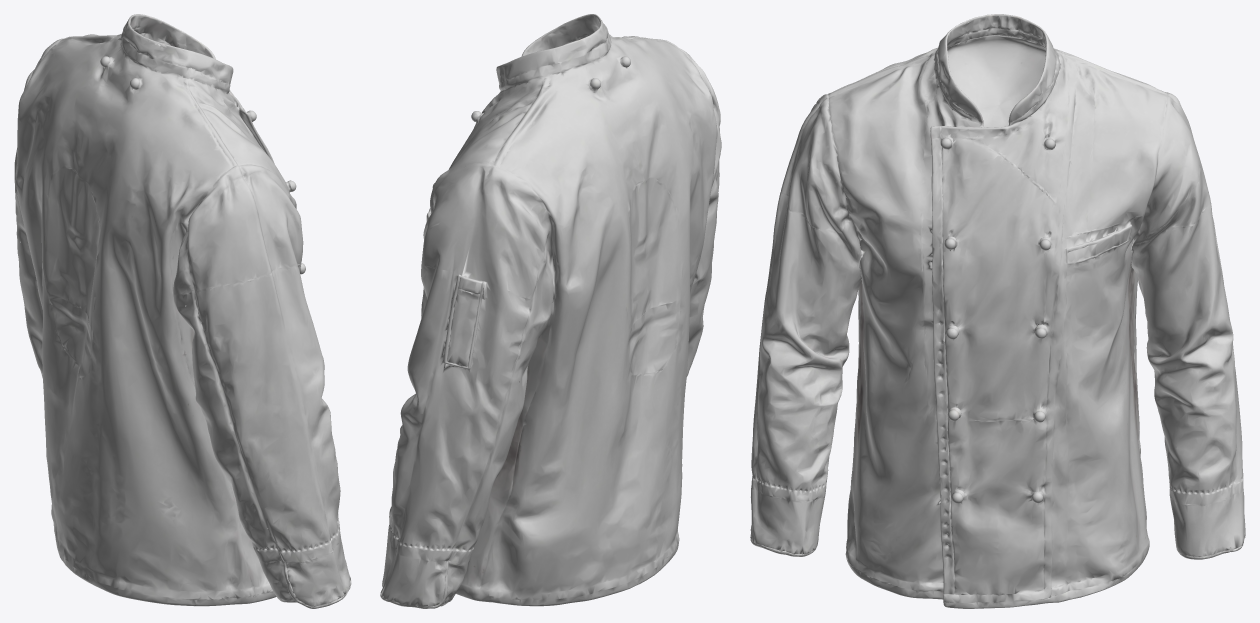
The model's file is CHEF.glb.
3 renders of one model, left to right at view 1: azimuth 30°, elevation 25°; view 2: azimuth 150°, elevation 25°; view 3: azimuth 270°, elevation 25°, orthographic.
Parts seen in each view (by area): view 1: tripo_node_2b9e7feb-9dc7-4683-b1ee-72be162efa5d; view 2: tripo_node_2b9e7feb-9dc7-4683-b1ee-72be162efa5d; view 3: tripo_node_2b9e7feb-9dc7-4683-b1ee-72be162efa5d.
Part boxes in pixels (x1,y1,x2,y2): tripo_node_2b9e7feb-9dc7-4683-b1ee-72be162efa5d: (14,14,351,608); tripo_node_2b9e7feb-9dc7-4683-b1ee-72be162efa5d: (380,14,721,608); tripo_node_2b9e7feb-9dc7-4683-b1ee-72be162efa5d: (750,14,1245,608).
Size of the model in its own units: 0.4193 by 0.9789 by 0.838.
Materials: 1 (1 with a texture image).
